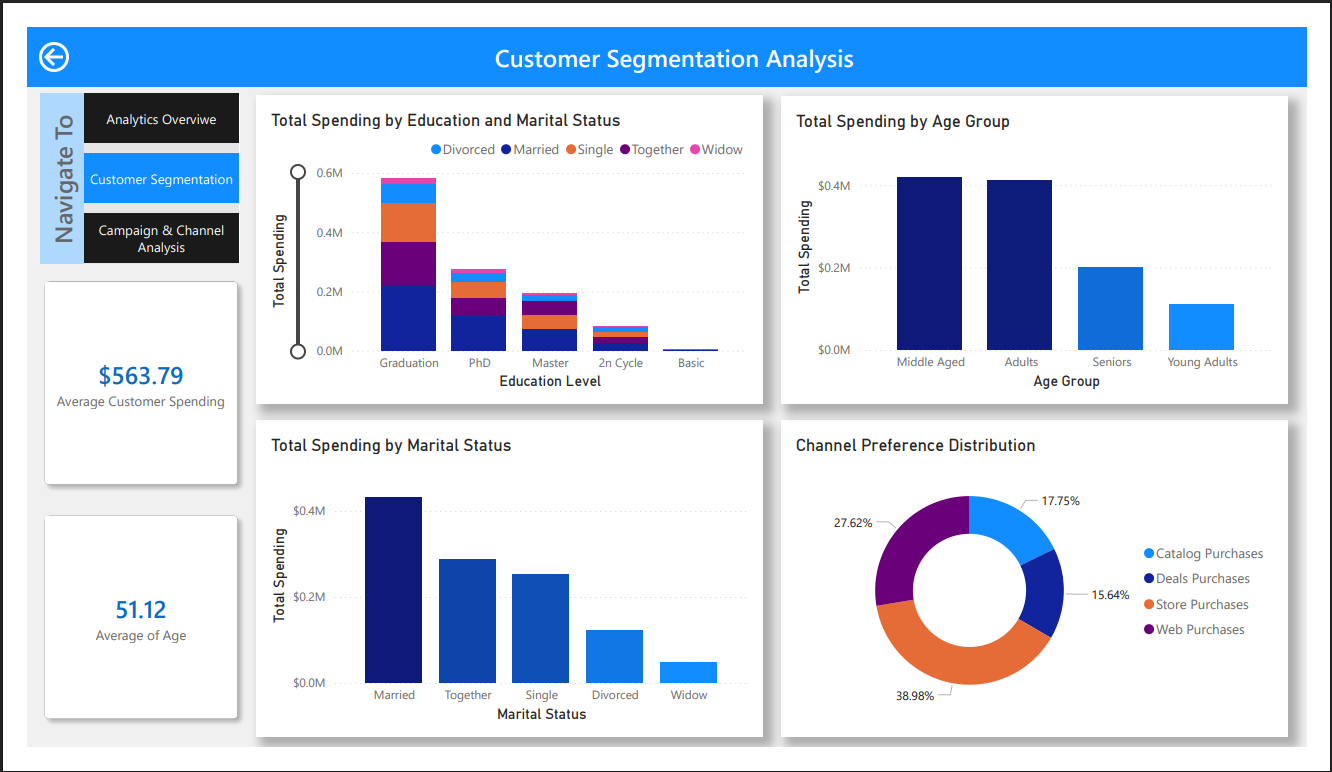

Layout of this report page (visuals, bound fields, positions):
{"tool":"powerbi","page":{"name":"Customer Segmentation","canvas":[1280,720],"ordinal":1},"visuals":[{"type":"shape","box":[0,0,1279.8,59.5],"z":0},{"type":"pageNavigator","box":[57.6,66,154.9,170.5],"z":0,"group":"g1"},{"type":"shape","box":[13.2,66,44.4,170.5],"z":1000,"group":"g1"},{"type":"clusteredColumnChart","title":"Total Spending by Marital Status ","fields":{"Y":["Key Measures.Total Spending"],"Category":["ifood_df.Marital Status"]},"box":[228.6,392.9,507.1,316.7],"z":1000},{"type":"donutChart","title":"Channel Preference Distribution ","fields":{"Y":["Sum(ifood_df.Catalog Purchases)","Sum(ifood_df.Deals Purchases)","Sum(ifood_df.Store Purchases)","Sum(ifood_df.Web Purchases)"]},"box":[753.6,392.9,507.1,316.7],"z":2000},{"type":"cardVisual","fields":{"Data":["Key Measures.Average Customer Spending","Avg(ifood_df.Age)"]},"box":[0,236.5,228.1,473.1],"z":4000},{"type":"columnChart","title":"Total Spending by Education and Marital Status","fields":{"Series":["ifood_df.Marital Status"],"Category":["ifood_df.Education Level"],"Y":["Sum(ifood_df.Total Amount)"]},"box":[228.6,67.9,507.1,309.5],"z":5000},{"type":"columnChart","title":"Total Spending by Age Group","fields":{"Y":["Key Measures.Total Spending"],"Category":["ifood_df.Age Group"]},"box":[753.6,69,507.1,308.3],"z":7000},{"type":"group","id":"g1","title":"Group 1","box":[13.2,66,199.3,170.5],"z":12000},{"type":"actionButton","box":[7.4,9.9,100.5,39.7],"z":12001}]}

Visuals, with their boxes in screenshot pixels (x1, y1, x2, y2), scaled from the page's 1280x720 canvas onto the 1332x772 screenshot:
shape: select_region(0, 0, 1331, 64)
pageNavigator: select_region(60, 71, 221, 254)
shape: select_region(14, 71, 60, 254)
"Total Spending by Marital Status " clusteredColumnChart: select_region(238, 421, 766, 761)
"Channel Preference Distribution " donutChart: select_region(784, 421, 1312, 761)
cardVisual - Key Measures.Average Customer Spending x Avg(ifood_df.Age): select_region(0, 254, 237, 761)
"Total Spending by Education and Marital Status" columnChart: select_region(238, 73, 766, 405)
"Total Spending by Age Group" columnChart: select_region(784, 74, 1312, 405)
"Group 1" group: select_region(14, 71, 221, 254)
actionButton: select_region(8, 11, 112, 53)
